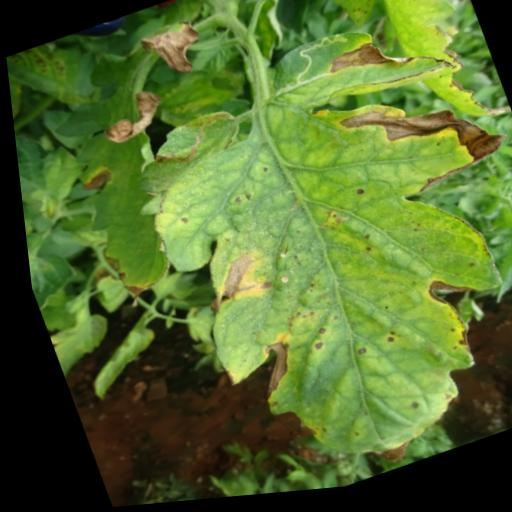Early Blight: (121, 58, 512, 504)
Leaf_Miner: (279, 34, 353, 87)
